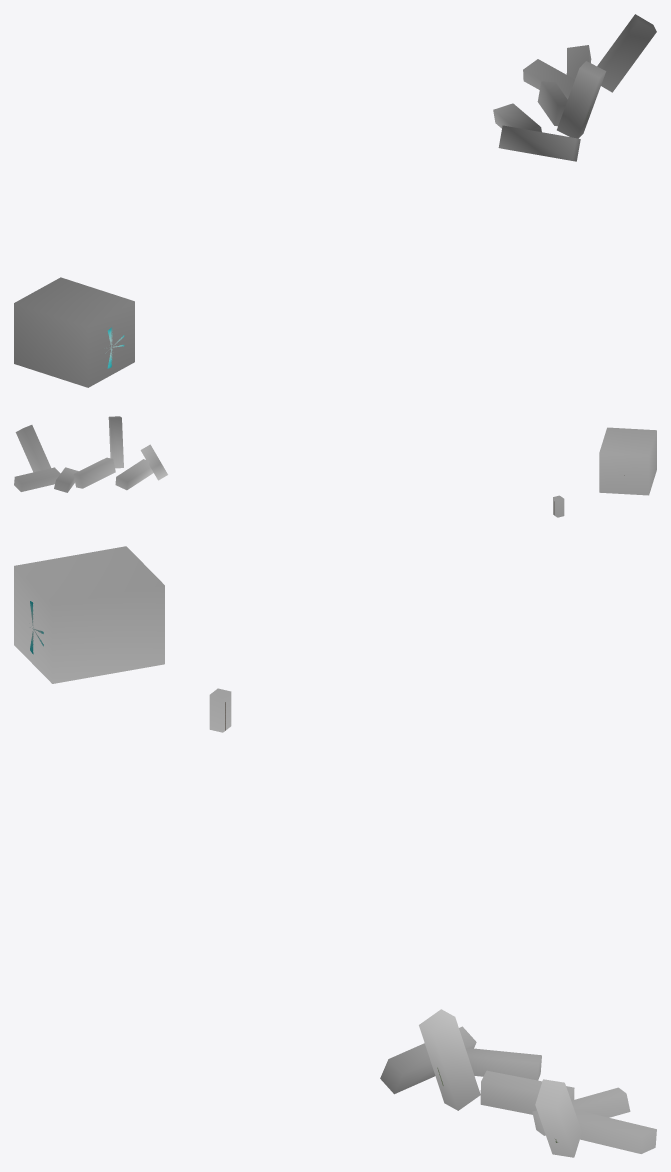
File: hj2-garage-mesh.glb
3 views of the same model, one above another, from view 1: azimuth 30°, elevation 25°; view 2: azimuth 150°, elevation 25°; view 3: azimuth 270°, elevation 25° (orthographic). The views are drawn at different scales.
Parts seen in each view (by area): view 1: hj2-garage-props-collide-16; view 2: hj2-garage-props-collide-16; view 3: hj2-garage-props-collide-16.
Part boxes in pixels (x1,y1,x2,y2): hj2-garage-props-collide-16: (14, 14, 656, 387); hj2-garage-props-collide-16: (14, 416, 656, 517); hj2-garage-props-collide-16: (14, 546, 656, 1157).
Bounding box in the file's own units: 63.03 × 7.31 × 33.51.
24 materials, 24 textured.
